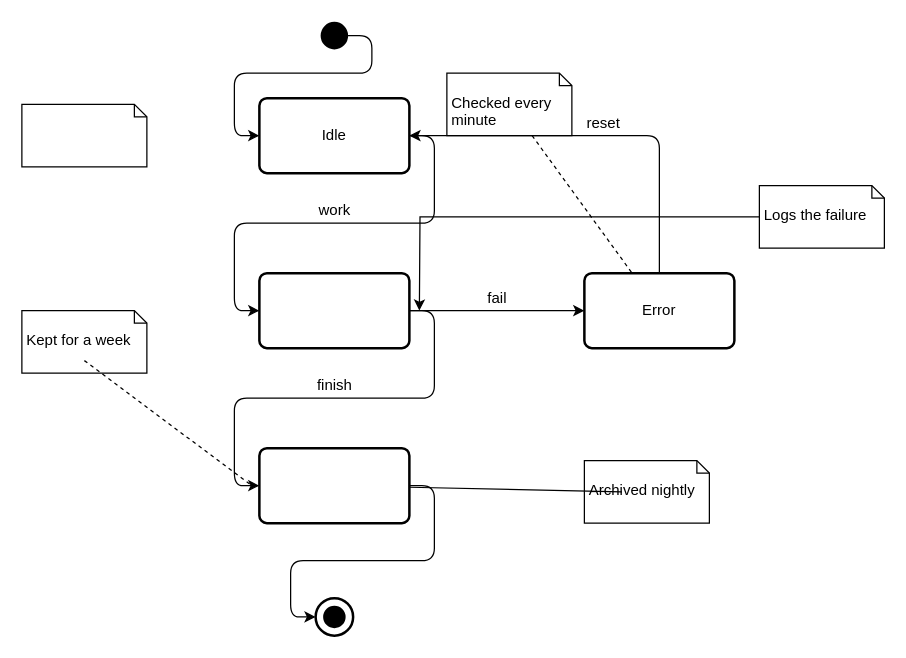
This 906x658 diagram has some shape labels left out. The centre of each missing label's shape, as x and y in pixels:
Busy: pixel 334 310
Done: pixel 334 485
Ready for work: pixel 84 135
